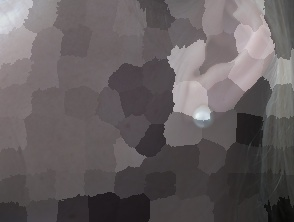vitiligo: (40, 0, 279, 222)
